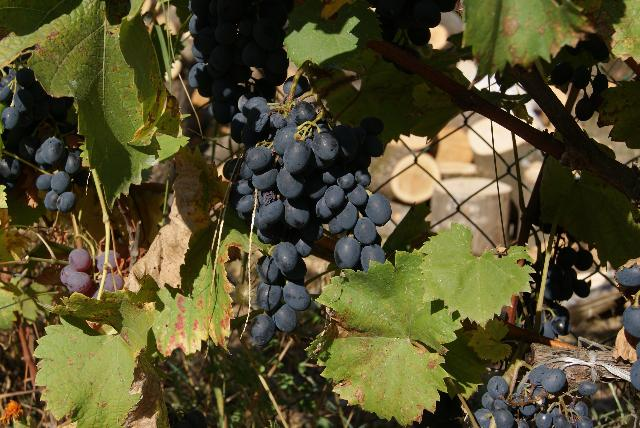grapes: (230, 118, 390, 345), (189, 0, 294, 124), (230, 95, 301, 148), (224, 159, 254, 194)
